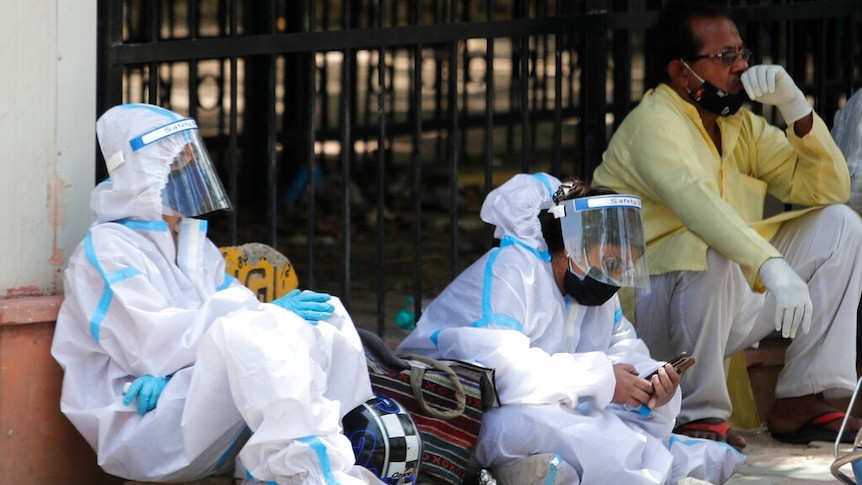Coverall: (43, 216, 381, 485), (391, 241, 685, 485)
Face_Shield: (129, 115, 242, 220), (554, 191, 654, 300)
Gloves: (761, 256, 818, 343), (738, 63, 813, 125), (265, 287, 336, 327), (122, 371, 169, 416)
mask_weared_incorrectly: (677, 41, 754, 119)
with_mask: (560, 243, 641, 309), (164, 154, 213, 219)
